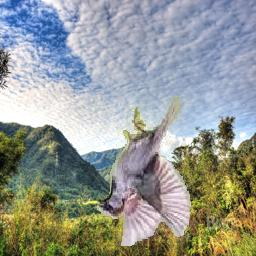Sparrow: (95, 98, 191, 247)
